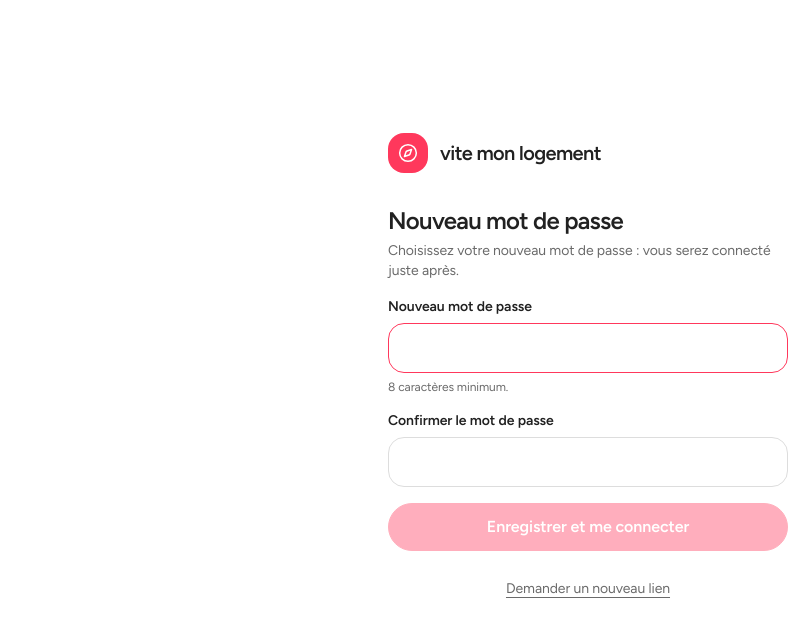
Test: AuthGate : mot de passe oublié › lien de l’e-mail (/?reset=…) : nouveau mot de passe, puis connecté ; le lien disparaît de l’adresse
Expected: the heading "Nouveau mot de passe" is shown, [388,206,623,235]
Step 1. Type "nouveau-mdp-1" into the password field labelled "Nouveau mot de passe" → (588, 348), box [388,323,788,373]
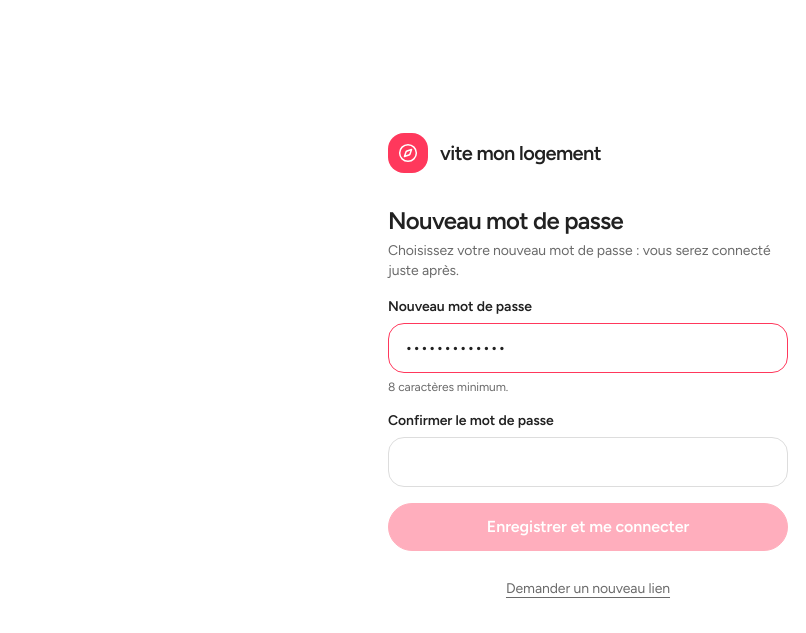
Step 2. Type "autre-chose-1" into the password field labelled "Confirmer le mot de passe" → (588, 462), box [388,437,788,487]
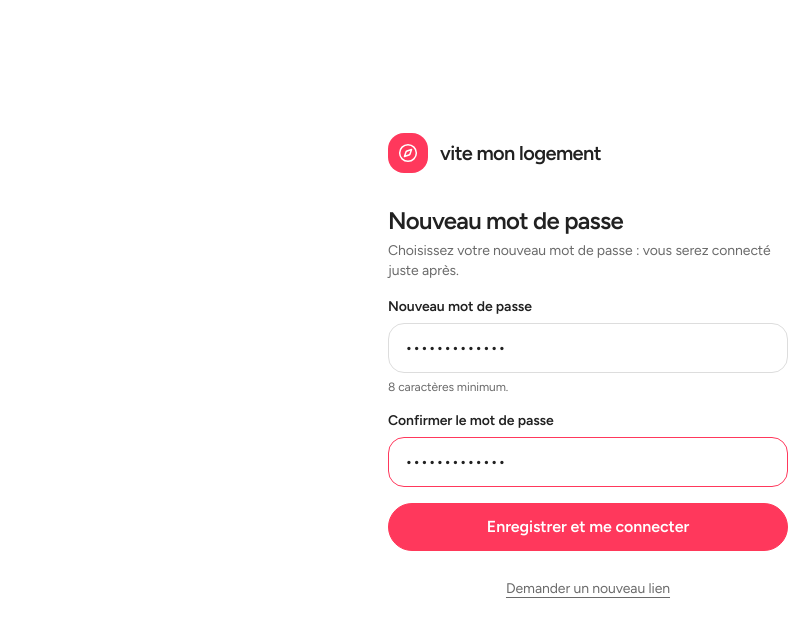
Step 3. Click the button with test id "button-save-password" → (588, 527), box [388,503,788,551]
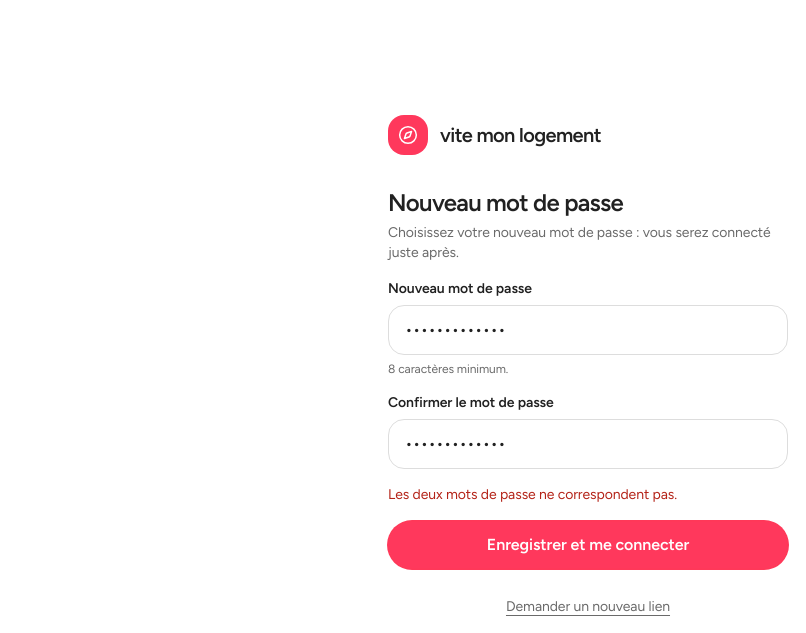
Result: the message with test id "status-login-error" shows "ne correspondent pas" at [388,486,677,503]
Step 4. Type "nouveau-mdp-1" into the password field labelled "Confirmer le mot de passe" → (588, 444), box [388,419,788,469]
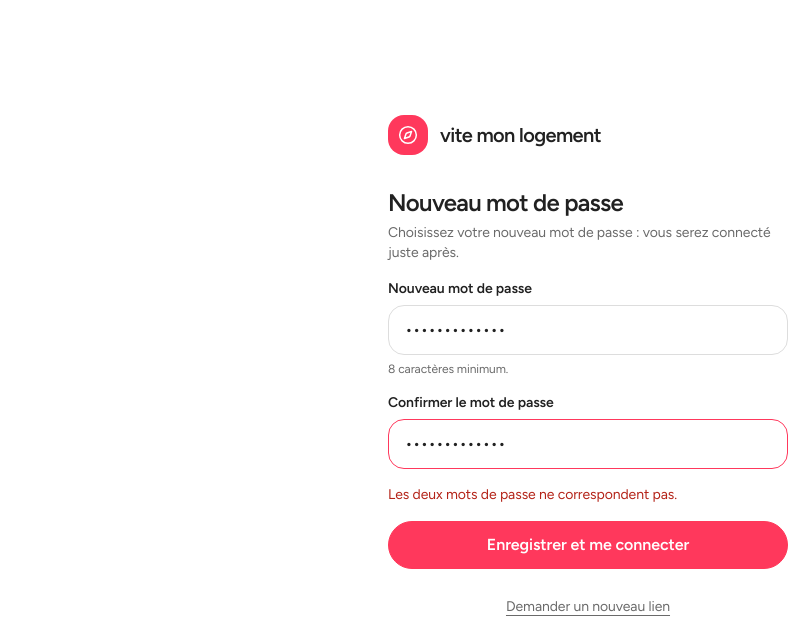
Step 5. Click the button with test id "button-save-password" → (588, 545), box [388,521,788,569]
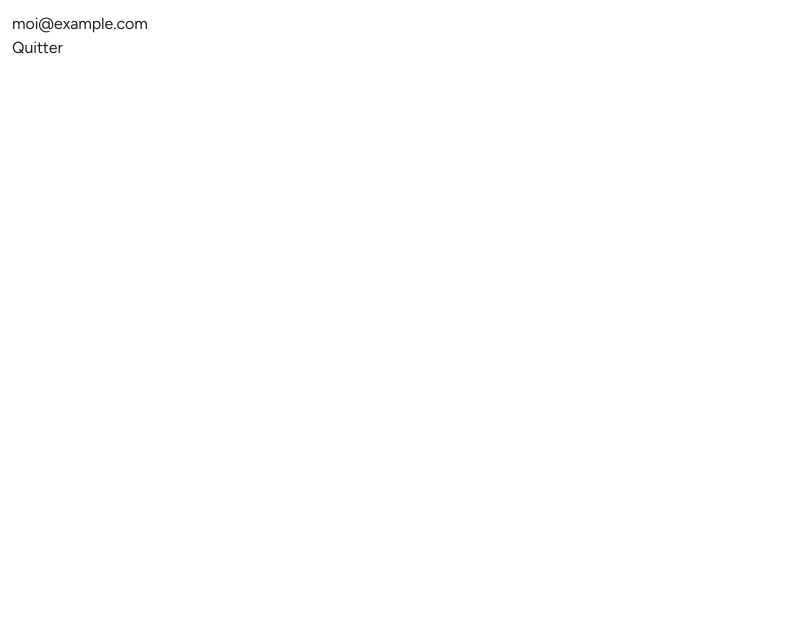
Result: the text with test id "who" reads "moi@example.com" at [12,14,148,33]
